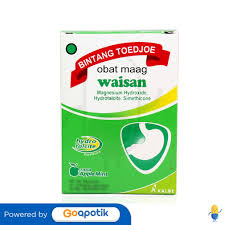Waisan: (96, 74, 150, 89)
